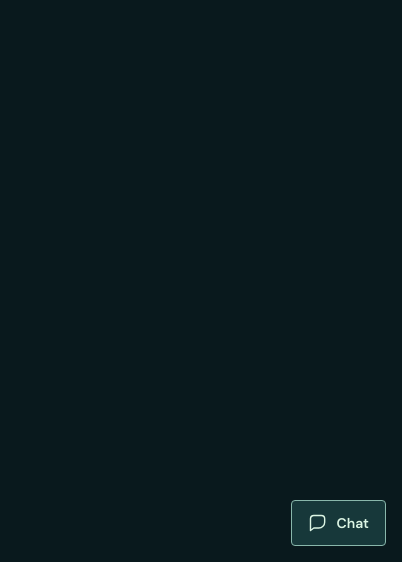
Test: room chat panel › retries the same request id after an error and keeps a new draft
The image size is (402, 562).
Later steps or results of the test are not shown.
Click the button "Chat": {"x": 339, "y": 523} x1=292 y1=500 x2=386 y2=546
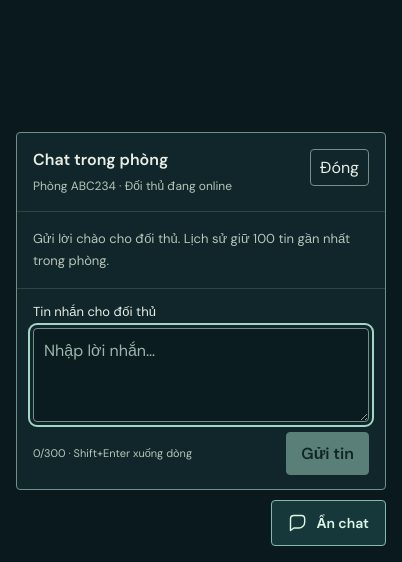
In the text box labelled "Tin nhắn cho đối thủ": {"x": 201, "y": 375} x1=33 y1=328 x2=369 y2=422, type "first"
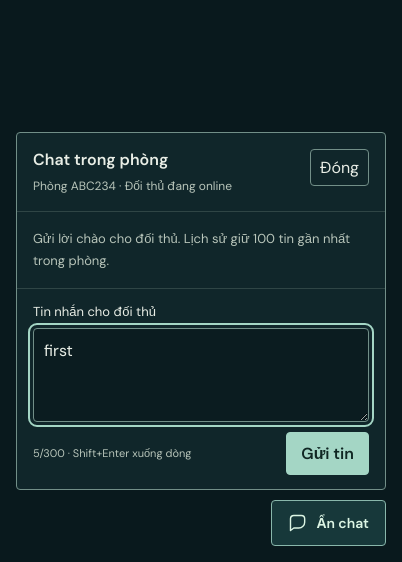
Click the button "Gửi tin": {"x": 328, "y": 454} x1=286 y1=432 x2=369 y2=475
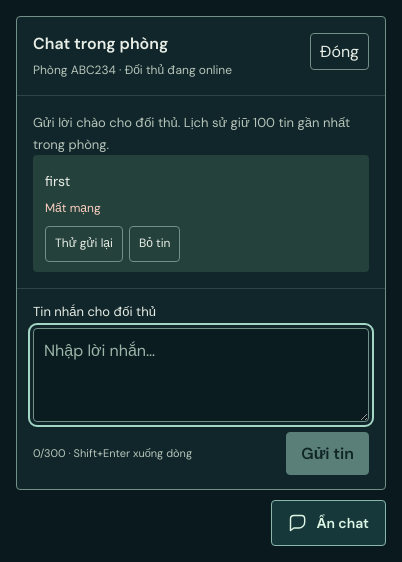
Now the text "Mất mạng" is shown, box x1=45 y1=200 x2=101 y2=216
